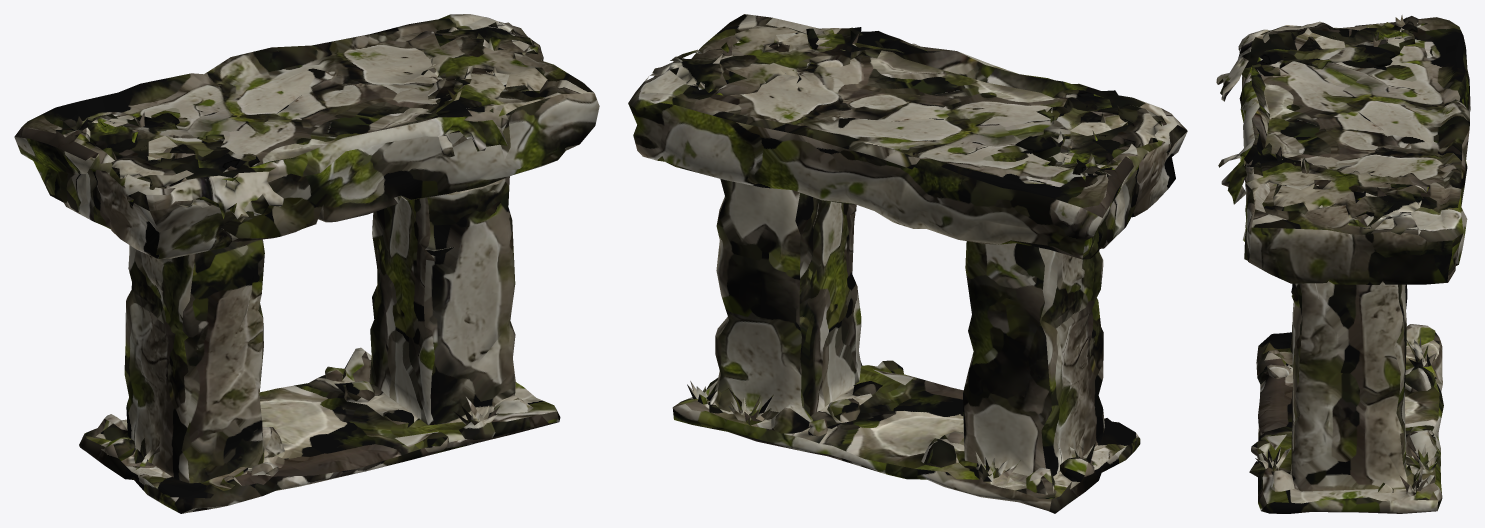
File: DolmenTower.fbx
3 views of the same model, side by side, from view 1: azimuth 30°, elevation 25°; view 2: azimuth 150°, elevation 25°; view 3: azimuth 270°, elevation 25° (orthographic). The views are drawn at different scales.
Parts seen in each view (by area): view 1: mesh_node; view 2: mesh_node; view 3: mesh_node.
Boxes of the visible parts, x1,y1,x2,y2 form: mesh_node: (14, 14, 599, 513); mesh_node: (628, 14, 1187, 513); mesh_node: (1216, 15, 1470, 513).
Size of the model in its own units: 1.98 by 1.41 by 0.9879.
